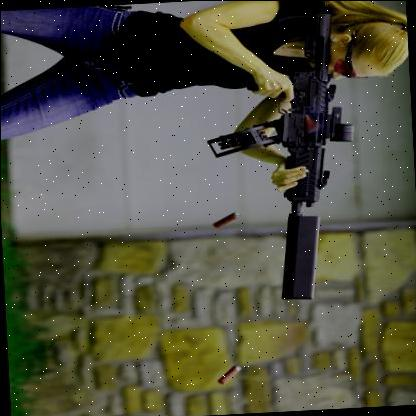rifle: (189, 11, 375, 308)
